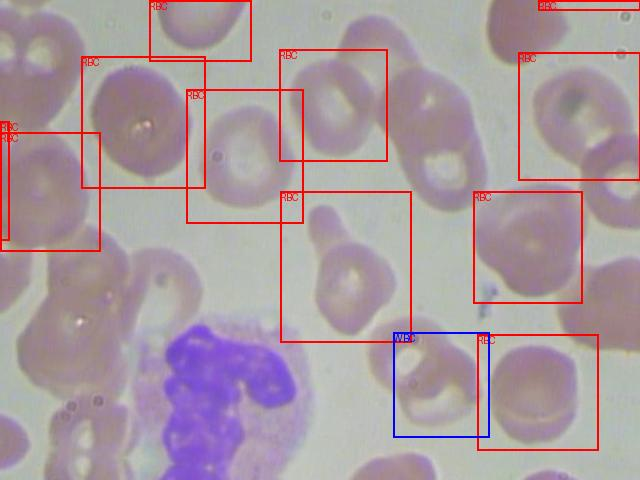RBC: (280, 191, 411, 342), (81, 56, 205, 188), (186, 89, 303, 223), (518, 52, 640, 180), (477, 334, 598, 450), (473, 191, 582, 303), (279, 49, 387, 161), (0, 132, 100, 251), (149, 0, 251, 61), (0, 121, 9, 240), (538, 0, 640, 10)
WBC: (393, 332, 489, 437)
